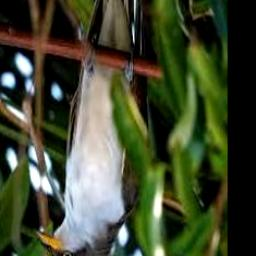Cuckoo: (37, 0, 147, 256)
